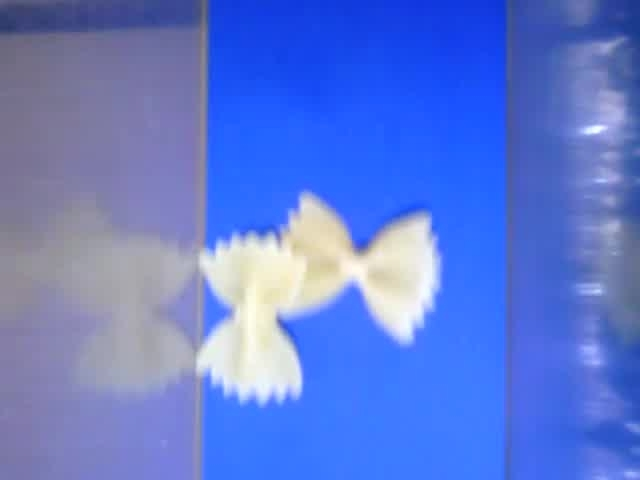farfalle: (274, 191, 443, 346), (198, 233, 307, 405)
